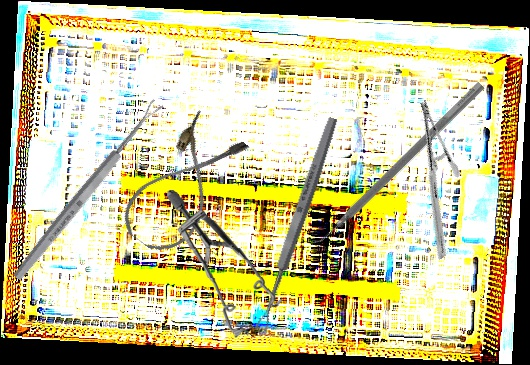Cannula: (113, 108, 254, 264)
Needle Holder: (358, 98, 508, 261)
Spatula Surgical: (307, 74, 486, 252)
Speculum: (166, 186, 284, 340)
Surgical Spoon: (10, 98, 165, 283), (252, 115, 341, 334)
